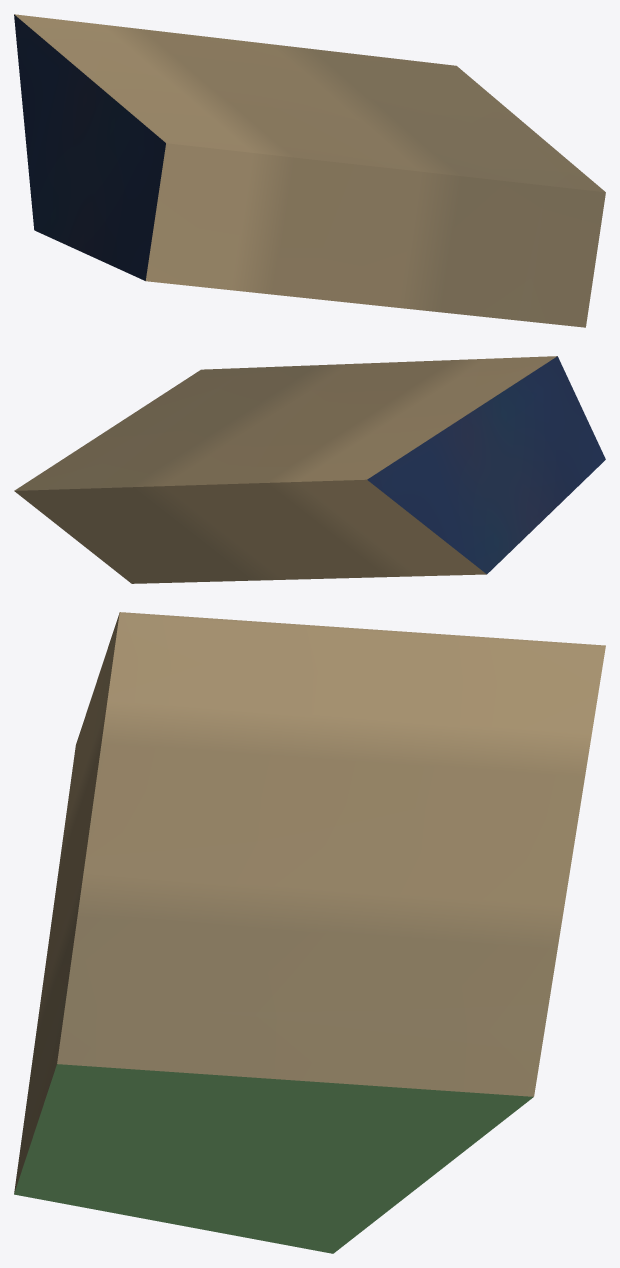
File: 061c_Singapore.glb
The picture shows the model from 3 angles, top to bottom: view 1: azimuth 30°, elevation 25°; view 2: azimuth 150°, elevation 25°; view 3: azimuth 270°, elevation 25°; orthographic projection. The views are drawn at different scales.
Visible parts, largest first — view 1: part_0; view 2: part_0; view 3: part_0.
Part boxes in pixels (bbox=[...]): part_0: bbox=[14, 14, 605, 327]; part_0: bbox=[14, 356, 605, 583]; part_0: bbox=[14, 612, 605, 1253].
Size of the model in its own units: 0.2203 by 0.1258 by 0.1747.
1 material, 1 textured.
